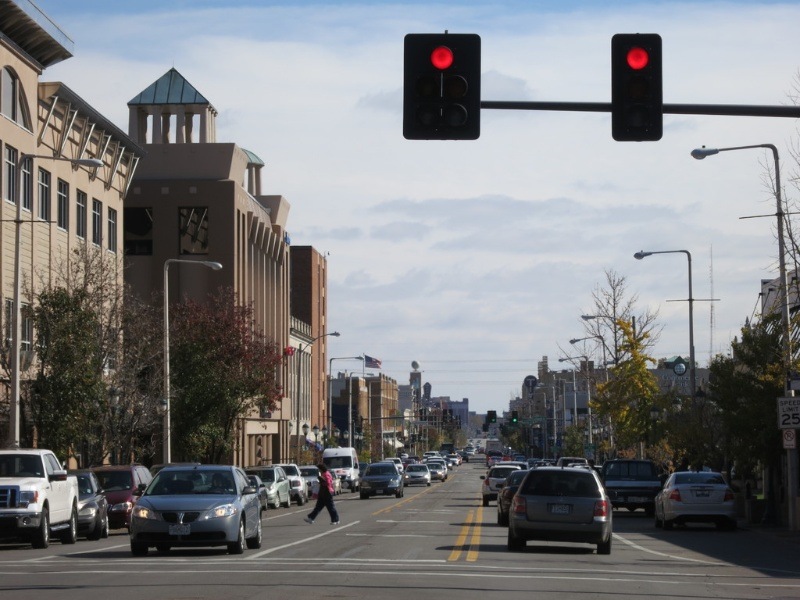red_light: (420, 35, 466, 75), (618, 36, 660, 75)
